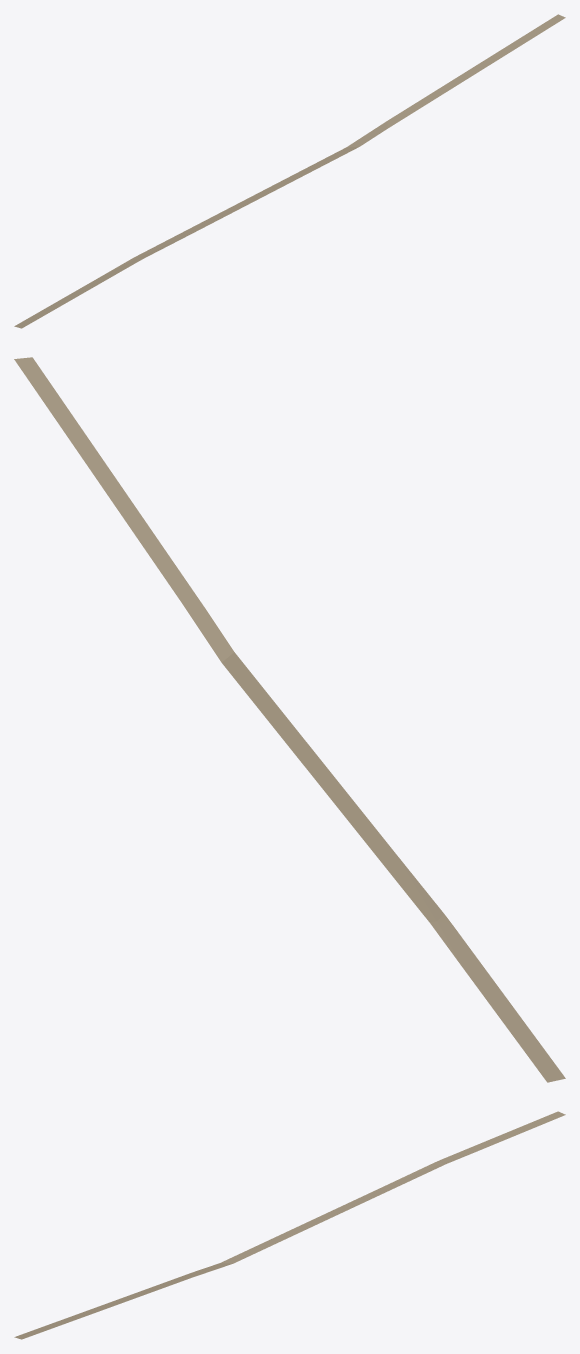
The model's file is farm_-10_-1_track.glb.
3 renders of one model, top to bottom at view 1: azimuth 90°, elevation 25°; view 2: azimuth 150°, elevation 25°; view 3: azimuth 270°, elevation 25°, orthographic. The views are drawn at different scales.
Visible parts, largest first — view 1: geometry_0; view 2: geometry_0; view 3: geometry_0.
Part boxes in pixels (x1,y1,x2,y2): geometry_0: (14,14,565,328); geometry_0: (14,357,565,1082); geometry_0: (14,1111,565,1339).
Size of the model in its own units: 205 by 15.4 by 176.
